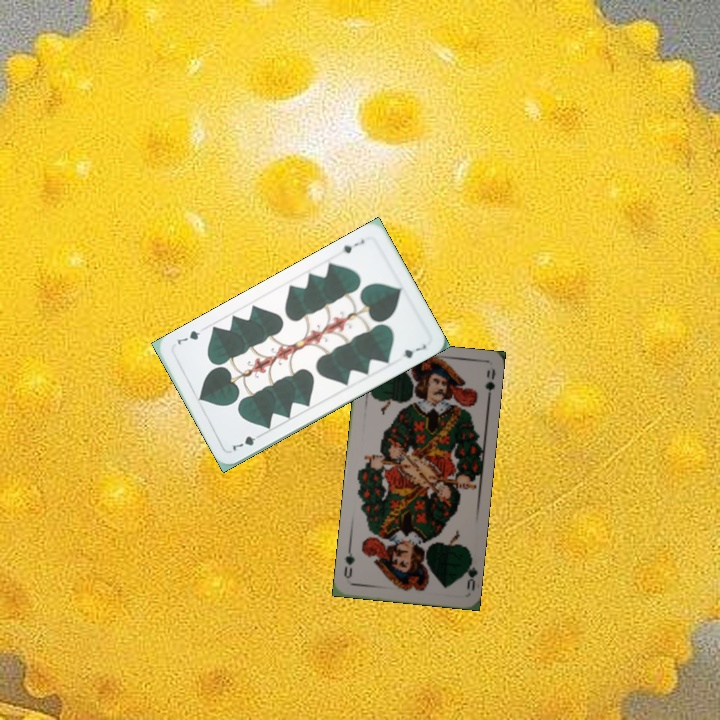G7: (228, 429, 265, 454), (334, 235, 367, 256)
GO: (458, 553, 479, 594)
